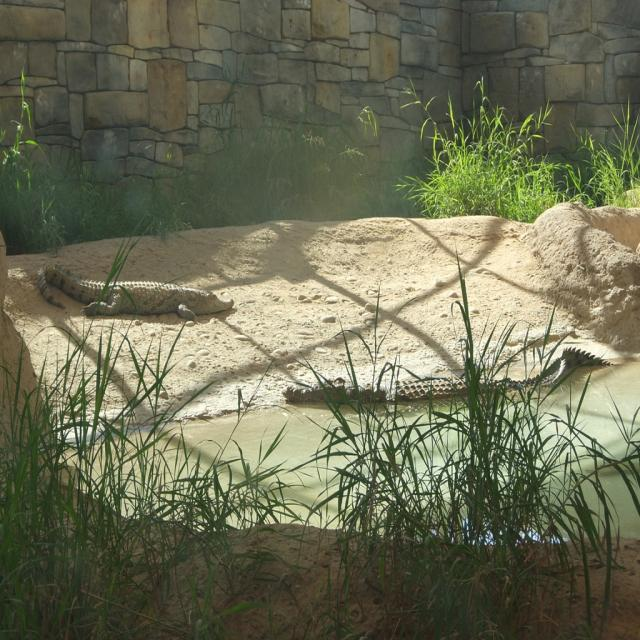crocodile: (271, 325, 634, 439), (22, 254, 274, 347)
